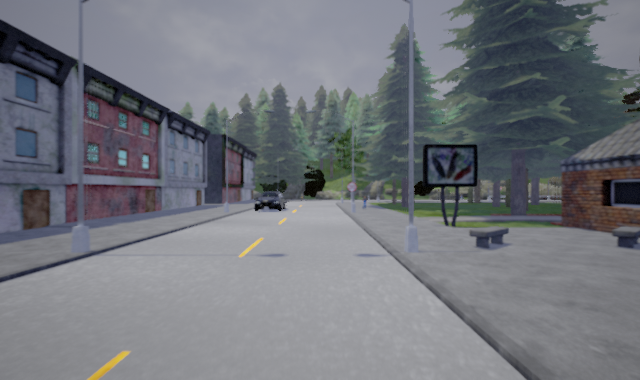vehicle: (253, 191, 286, 211)
